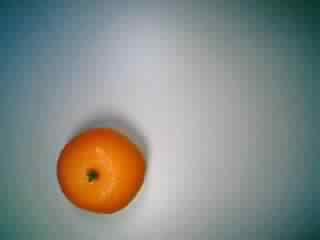orange: (50, 125, 147, 219)
